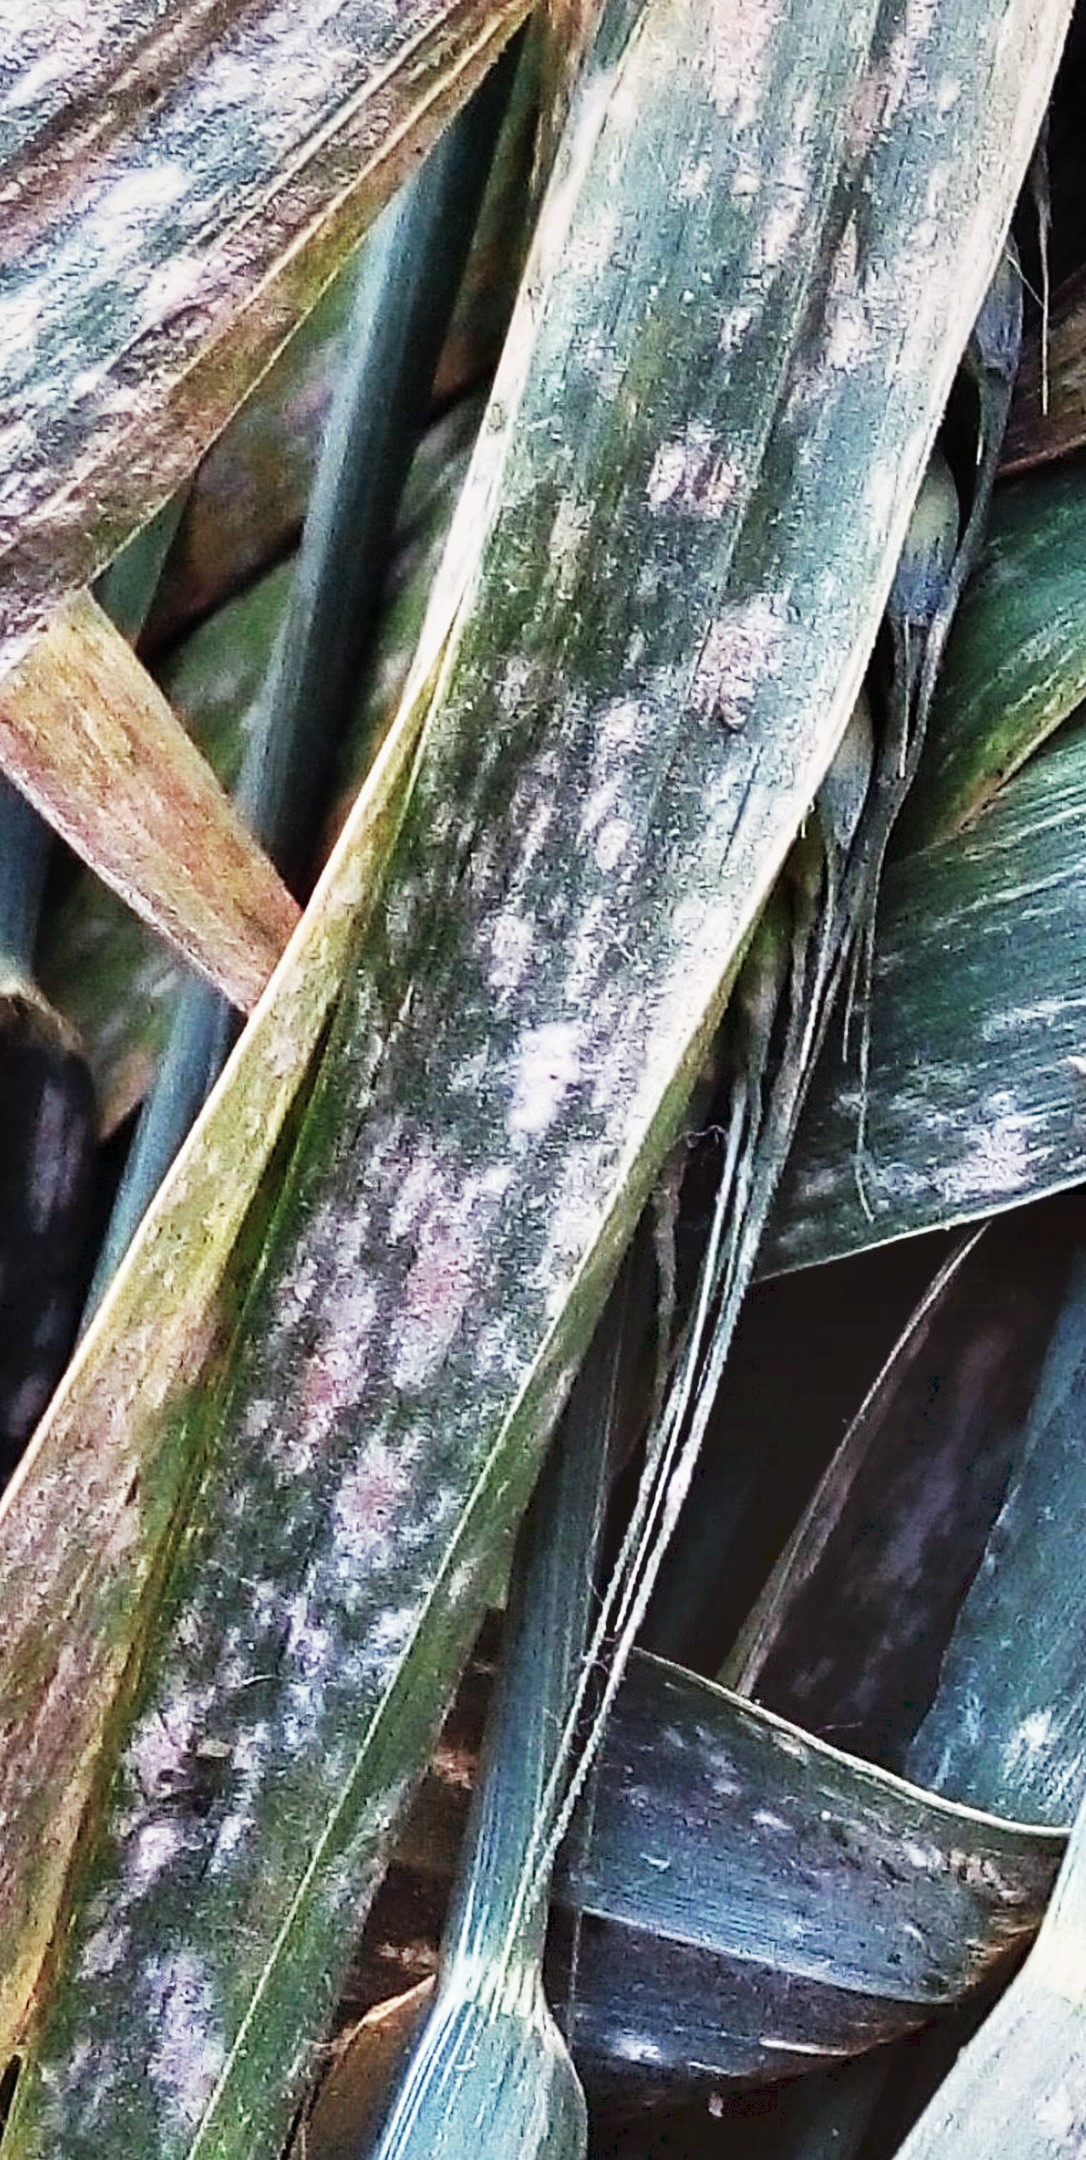Powdery Mildew: (168, 310, 902, 1745)
